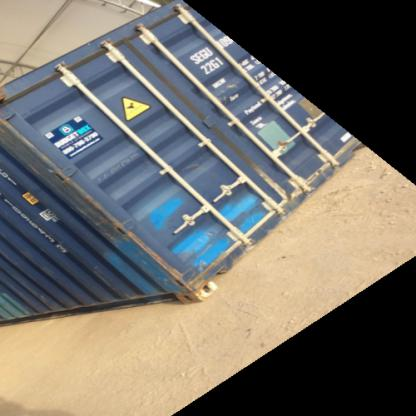Damage: (182, 251, 234, 292), (255, 165, 303, 202), (302, 159, 332, 185)
